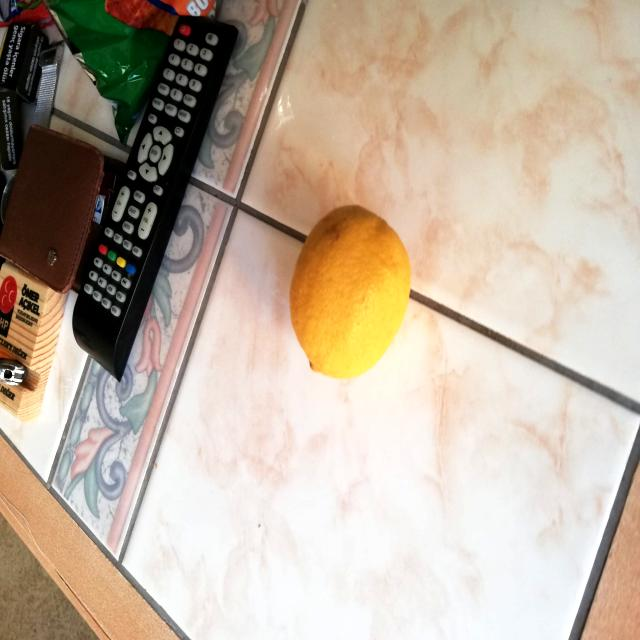lemon: (284, 198, 418, 386)
